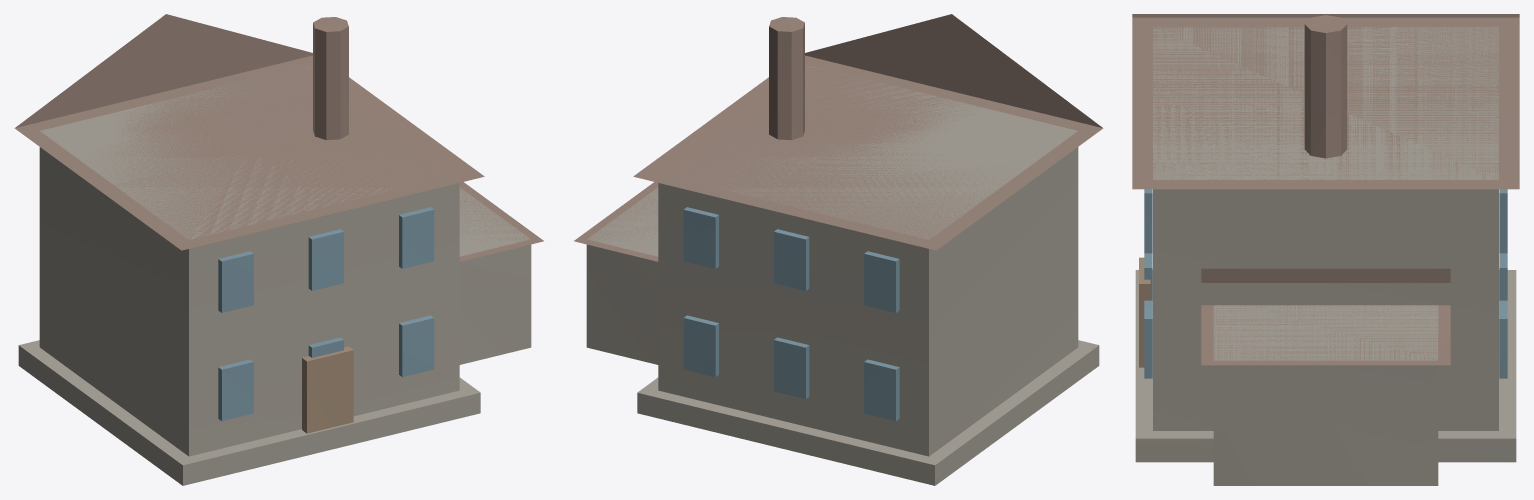
File: barn-04.glb
The picture shows the model from 3 angles, left to right: view 1: azimuth 30°, elevation 25°; view 2: azimuth 150°, elevation 25°; view 3: azimuth 270°, elevation 25°; orthographic projection. The views are drawn at different scales.
Visible parts, largest first — view 1: world; view 2: world; view 3: world.
Part boxes in pixels (bbox=[...]): world: bbox=[14, 14, 543, 485]; world: bbox=[574, 14, 1103, 485]; world: bbox=[1132, 14, 1519, 485].
Size of the model in its own units: 1.59 by 1.34 by 1.18.
